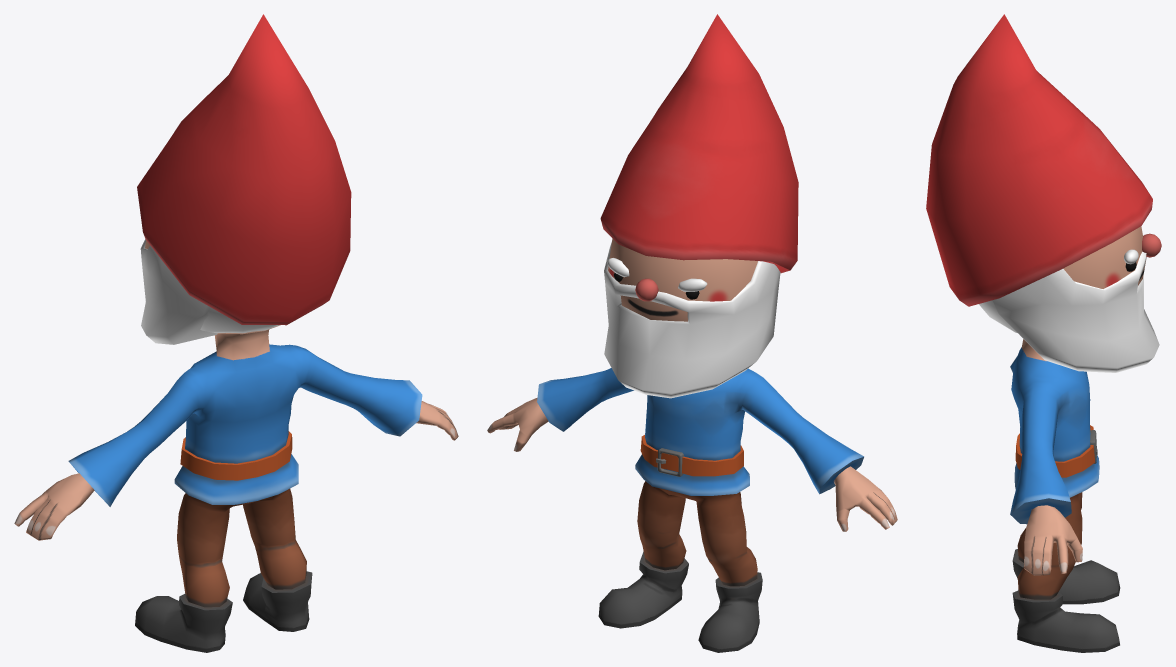
File: rig_char_47.fbx
3 views of the same model, side by side, from view 1: azimuth 30°, elevation 25°; view 2: azimuth 150°, elevation 25°; view 3: azimuth 270°, elevation 25° (orthographic). The views are drawn at different scales.
Parts seen in each view (by area): view 1: mesh_char_104; view 2: mesh_char_104; view 3: mesh_char_104.
Boxes of the visible parts, box(x1,y1,x2,y2) form: mesh_char_104: box(14, 14, 458, 652); mesh_char_104: box(487, 14, 897, 652); mesh_char_104: box(926, 14, 1161, 652).
Size of the model in its own units: 8.49 by 11.8 by 4.18.
1 material, 1 textured.
